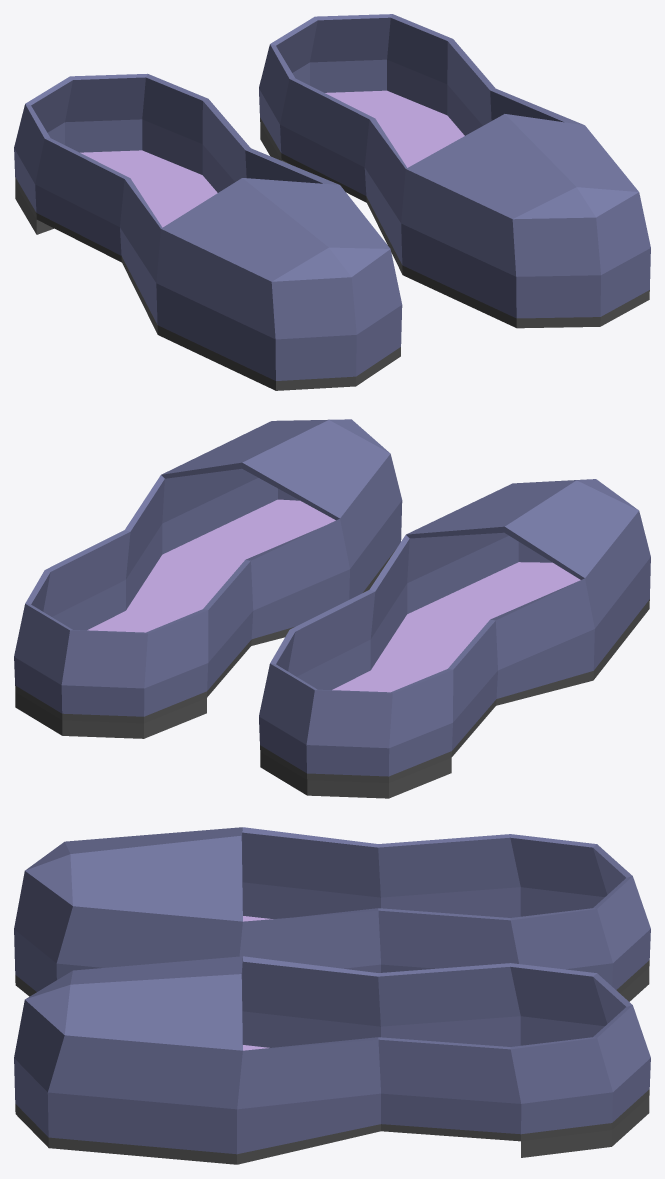
The model's file is Loafers_1.fbx.
3 views of the same model, one above another, from view 1: azimuth 30°, elevation 25°; view 2: azimuth 150°, elevation 25°; view 3: azimuth 270°, elevation 25° (orthographic). The views are drawn at different scales.
Parts seen in each view (by area): view 1: Loafers_1; view 2: Loafers_1; view 3: Loafers_1.
Part boxes in pixels (x1,y1,x2,y2): Loafers_1: [14, 14, 650, 390]; Loafers_1: [14, 419, 650, 798]; Loafers_1: [14, 827, 650, 1164].
Size of the model in its own units: 31.94 by 37.2 by 9.5.
